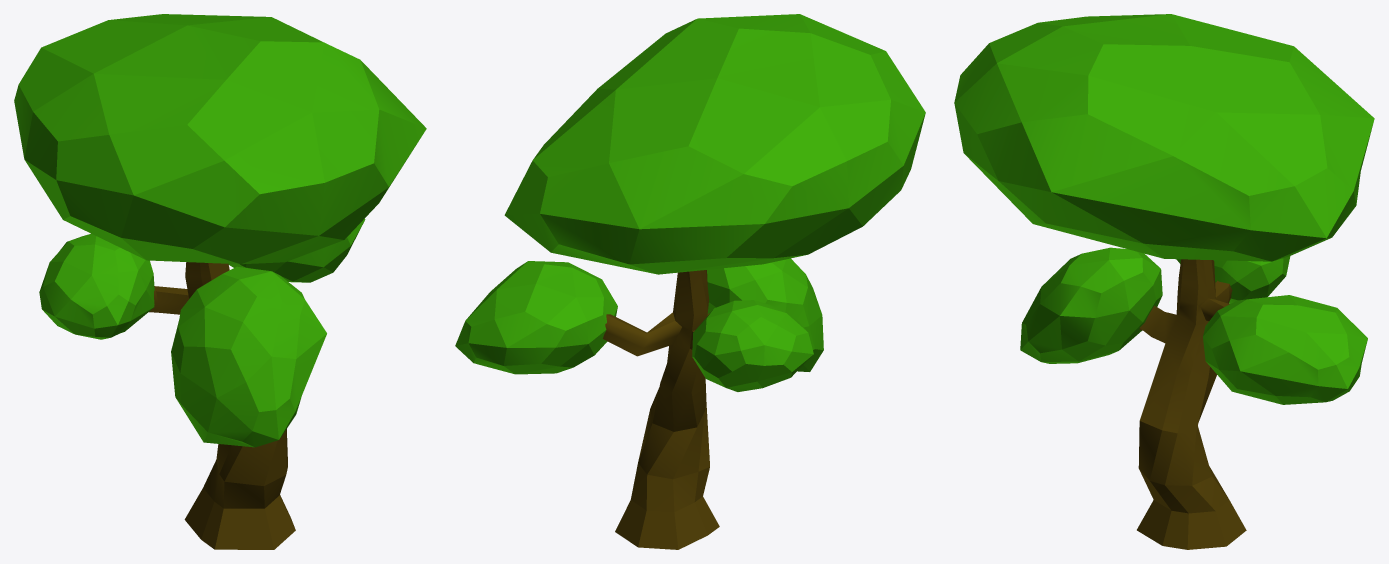
The model's file is GreenTree2.fbx.
3 renders of one model, left to right at view 1: azimuth 30°, elevation 25°; view 2: azimuth 150°, elevation 25°; view 3: azimuth 270°, elevation 25°, orthographic. The views are drawn at different scales.
Parts seen in each view (by area): view 1: pCube14; view 2: pCube14; view 3: pCube14.
Boxes of the visible parts, x1=… form: pCube14: x1=14, y1=14, x2=426, y2=549; pCube14: x1=455, y1=14, x2=925, y2=549; pCube14: x1=954, y1=14, x2=1374, y2=549.
Size of the model in its own units: 4.21 by 5.64 by 4.55.
